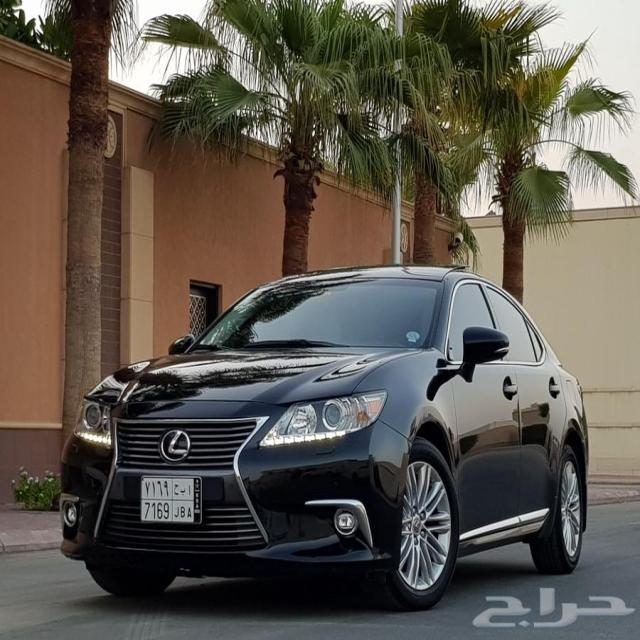license_plate: (139, 474, 203, 527)
